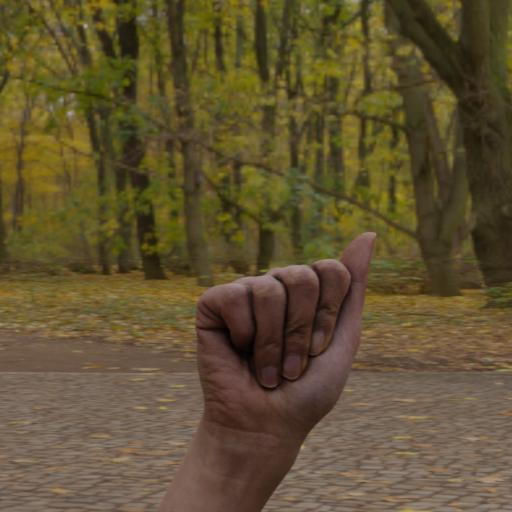A: (168, 223, 408, 449)
